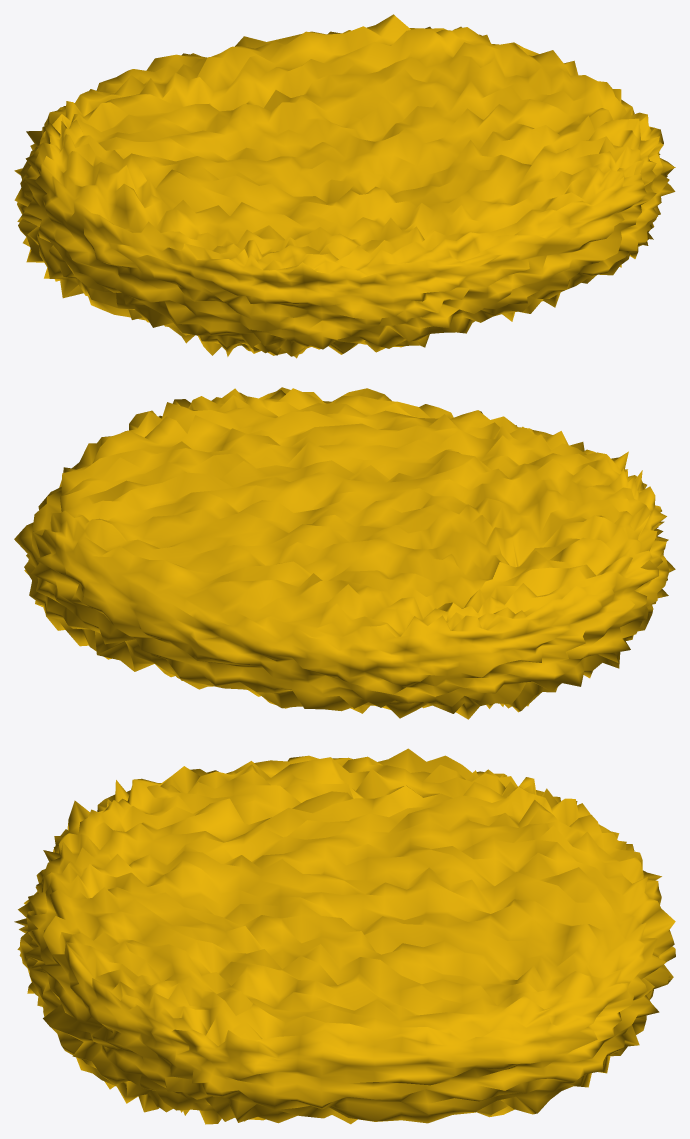
Rendered from メンチ.fbx.
3 views of the same model, one above another, from view 1: azimuth 30°, elevation 25°; view 2: azimuth 150°, elevation 25°; view 3: azimuth 270°, elevation 25° (orthographic). The views are drawn at different scales.
Visible parts, largest first — view 1: 平面.006; view 2: 平面.006; view 3: 平面.006.
Boxes of the visible parts, x1,y1,x2,y2 form: 平面.006: (14, 14, 675, 358); 平面.006: (14, 387, 675, 719); 平面.006: (14, 748, 675, 1124).
Bounding box in the file's own units: 2.18 × 0.4558 × 1.98.
